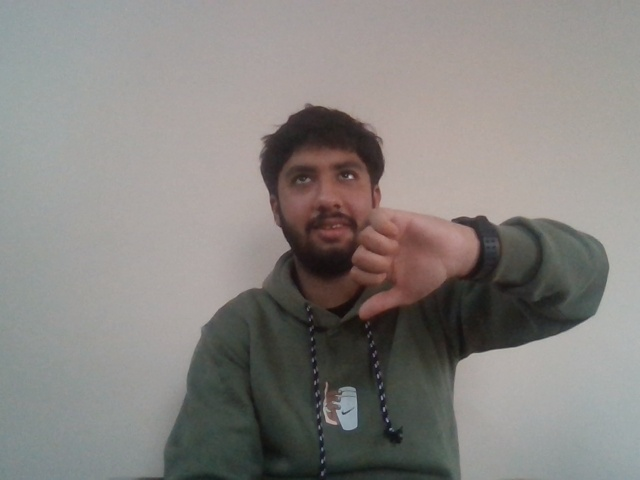No: (346, 201, 446, 320)
